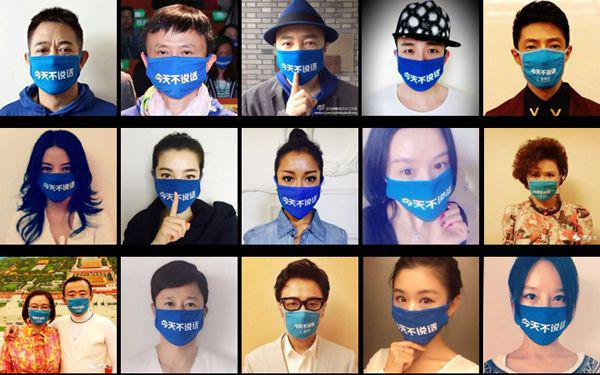OK: (386, 149, 458, 221), (514, 283, 578, 347), (145, 39, 205, 99), (389, 287, 448, 346), (28, 38, 84, 94), (154, 295, 207, 348), (515, 35, 568, 88), (394, 39, 447, 92), (274, 34, 326, 86), (274, 167, 325, 218), (34, 157, 81, 204), (152, 166, 199, 213), (278, 294, 325, 341), (526, 169, 558, 201), (65, 288, 90, 313), (30, 298, 50, 325)
